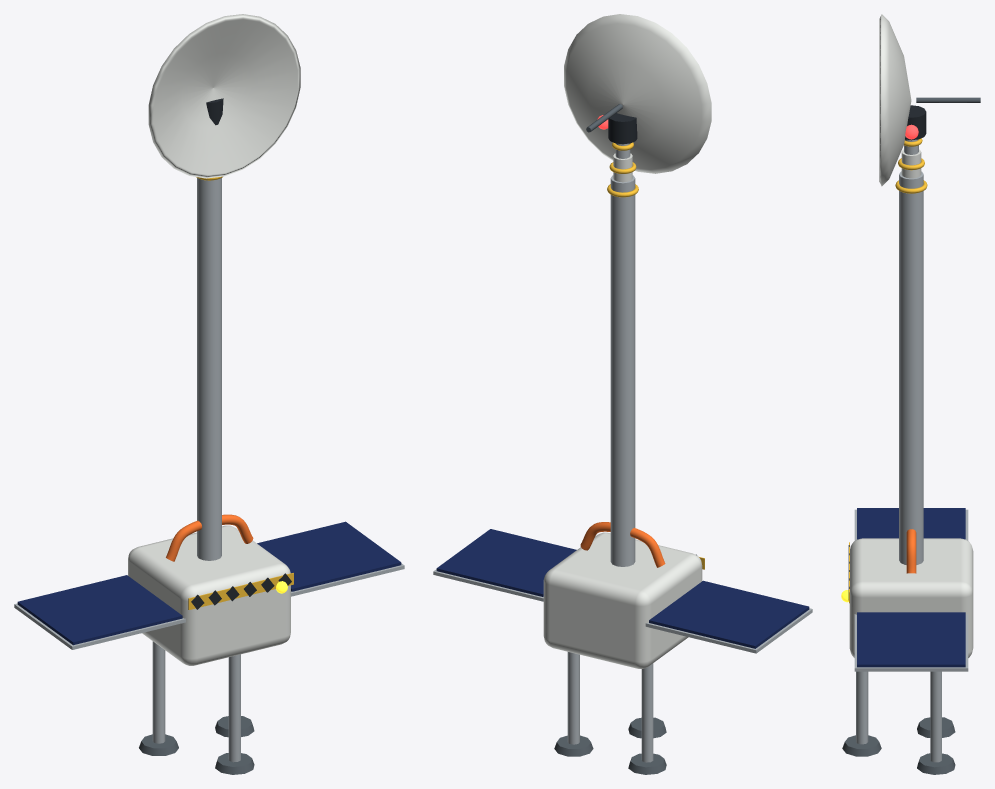
The model's file is relay-station.glb.
The picture shows the model from 3 angles, left to right: view 1: azimuth 30°, elevation 25°; view 2: azimuth 150°, elevation 25°; view 3: azimuth 270°, elevation 25°; orthographic projection. The views are drawn at different scales.
Visible parts, largest first — view 1: dish_tilt-hull-white, relay-station-hull-white, mast_1-aluminium, flap_l-solar-cell, flap_r-solar-cell, leg_1-aluminium, leg_3-aluminium, flap_l-aluminium, handle-safety-orange, relay-station-hazard-yellow, relay-station-dark-polymer; view 2: dish_tilt-hull-white, relay-station-hull-white, mast_1-aluminium, flap_l-solar-cell, flap_r-solar-cell, leg_3-aluminium, leg_2-aluminium, flap_l-aluminium, handle-safety-orange, dish_pivot-dark-polymer; view 3: mast_1-aluminium, relay-station-hull-white, flap_r-solar-cell, dish_tilt-hull-white, flap_l-solar-cell, leg_2-aluminium, leg_1-aluminium, flap_r-aluminium, leg_2-dark-steel, leg_1-dark-steel, dish_pivot-dark-polymer, handle-safety-orange (+3 smaller).
Part boxes in pixels (box(x1,y1,x2,y2)): dish_tilt-hull-white: box(148, 14, 300, 178); relay-station-hull-white: box(128, 525, 290, 665); mast_1-aluminium: box(197, 178, 221, 560); flap_l-solar-cell: box(17, 575, 182, 645); flap_r-solar-cell: box(257, 521, 401, 591); leg_1-aluminium: box(228, 654, 240, 762); leg_3-aluminium: box(152, 641, 165, 743); flap_l-aluminium: box(14, 603, 185, 649); handle-safety-orange: box(166, 514, 253, 561); relay-station-hazard-yellow: box(188, 573, 293, 609); relay-station-dark-polymer: box(191, 573, 291, 609); dish_tilt-hull-white: box(564, 14, 711, 173); relay-station-hull-white: box(543, 532, 702, 668); mast_1-aluminium: box(610, 175, 635, 566); flap_l-solar-cell: box(649, 580, 809, 648); flap_r-solar-cell: box(436, 529, 576, 596); leg_3-aluminium: box(641, 663, 653, 762); leg_2-aluminium: box(567, 652, 579, 744); flap_l-aluminium: box(645, 608, 812, 653); handle-safety-orange: box(580, 522, 665, 567); dish_pivot-dark-polymer: box(608, 113, 637, 144); mast_1-aluminium: box(899, 171, 923, 564); relay-station-hull-white: box(849, 538, 973, 657); flap_r-solar-cell: box(857, 612, 965, 667); dish_tilt-hull-white: box(879, 14, 911, 186); flap_l-solar-cell: box(857, 508, 965, 539); leg_2-aluminium: box(930, 671, 941, 762); leg_1-aluminium: box(856, 671, 868, 744); flap_r-aluminium: box(854, 614, 968, 671); leg_2-dark-steel: box(917, 753, 955, 774); leg_1-dark-steel: box(842, 735, 881, 756); dish_pivot-dark-polymer: box(905, 105, 926, 140); handle-safety-orange: box(906, 529, 916, 573).
Size of the model in its own units: 1.52 by 3.24 by 0.5638.
